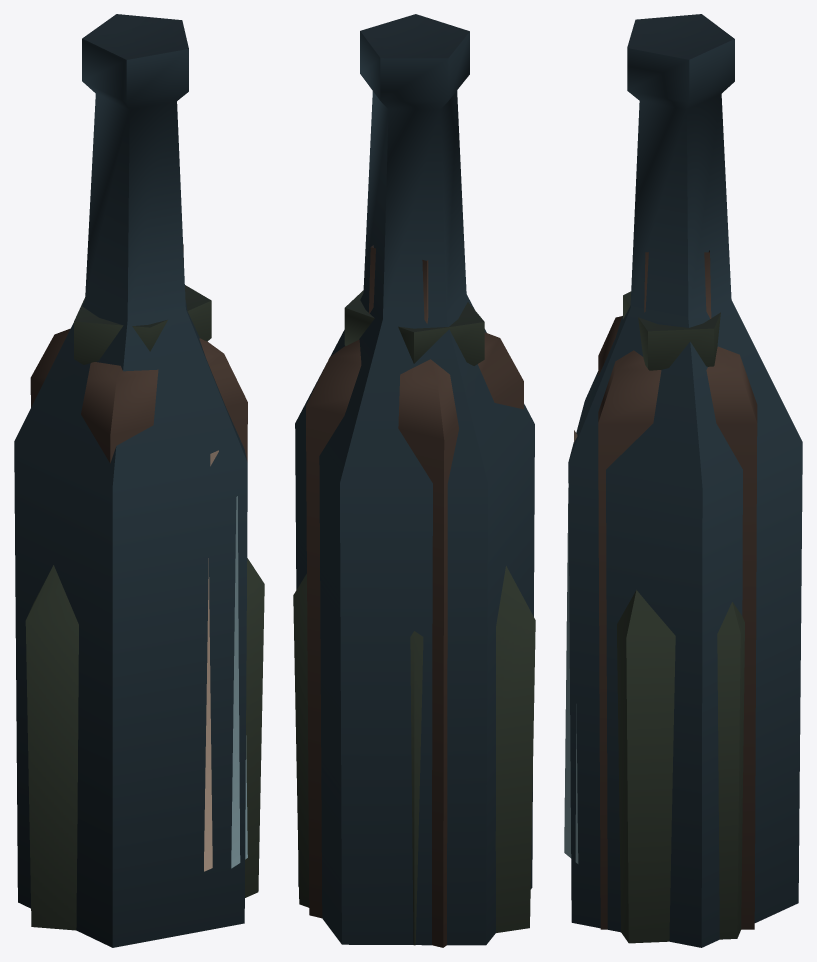
File: prop_bottle.glb
3 renders of one model, left to right at view 1: azimuth 30°, elevation 25°; view 2: azimuth 150°, elevation 25°; view 3: azimuth 270°, elevation 25°, orthographic.
Parts seen in each view (by area): view 1: bottle_a, bottle_b, bottle_c; view 2: bottle_a, bottle_c, bottle_b; view 3: bottle_a, bottle_b, bottle_c.
Boxes of the visible parts, x1=… form: bottle_a: x1=14, y1=14, x2=247, y2=947; bottle_b: x1=25, y1=285, x2=264, y2=930; bottle_c: x1=30, y1=244, x2=247, y2=871; bottle_a: x1=295, y1=14, x2=534, y2=945; bottle_c: x1=306, y1=245, x2=523, y2=947; bottle_b: x1=293, y1=290, x2=535, y2=945; bottle_a: x1=564, y1=14, x2=802, y2=947; bottle_b: x1=617, y1=291, x2=744, y2=943; bottle_c: x1=574, y1=250, x2=757, y2=929.
Bounding box in the file's own units: 0.0762 × 0.28 × 0.0703.
